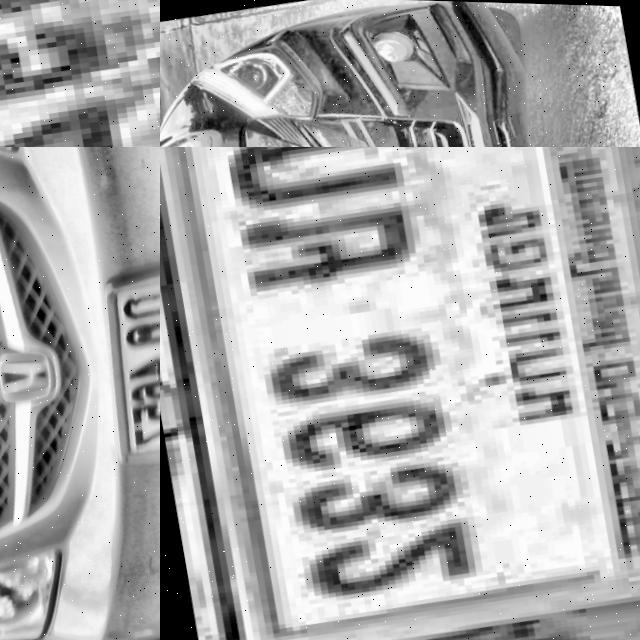license-plate: (160, 147, 640, 640), (0, 0, 160, 147), (94, 253, 160, 467)
